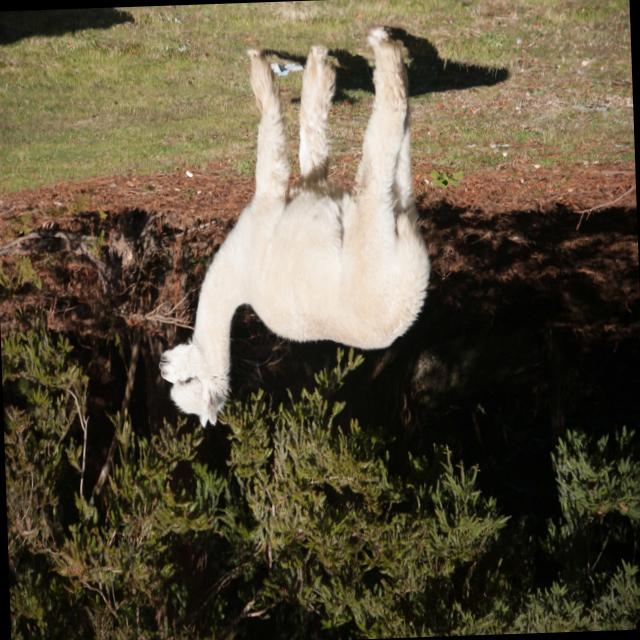alpaca: (148, 39, 434, 425)
